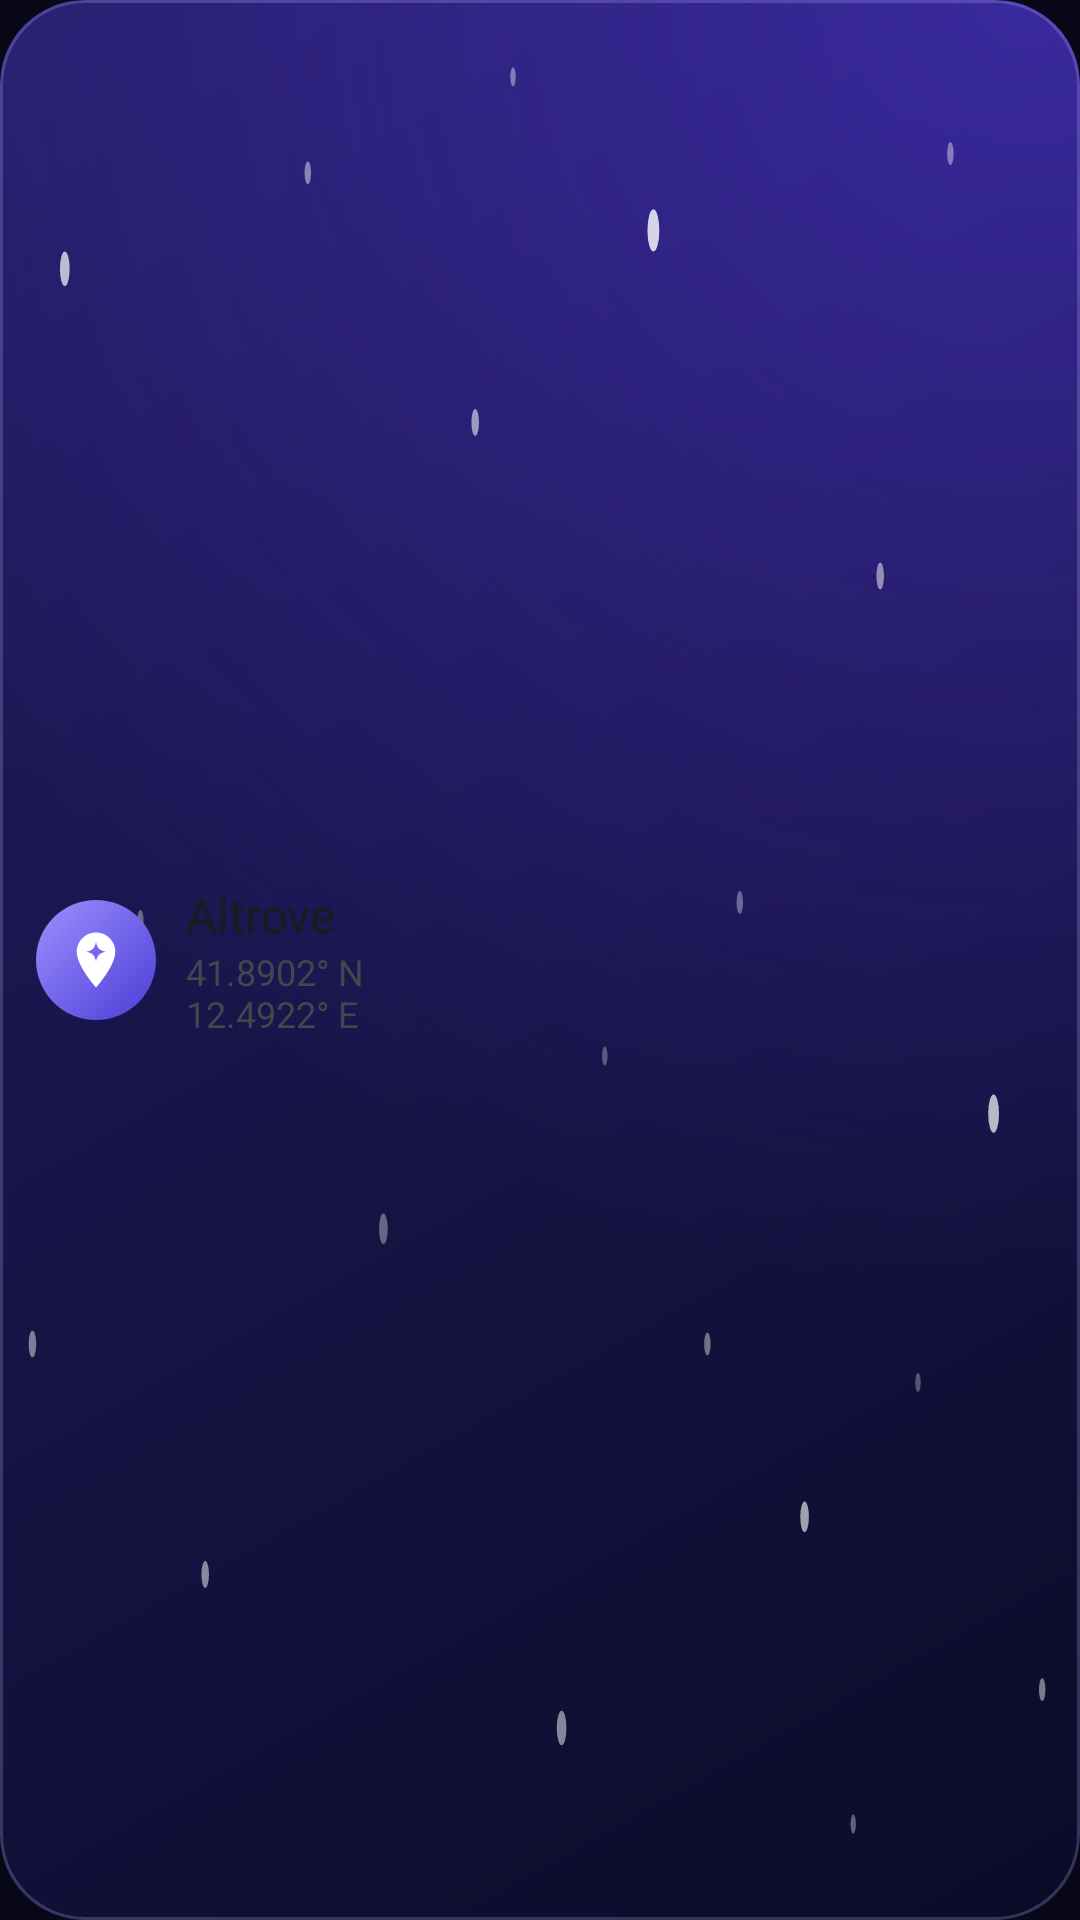

Named icons in this screenshot (1080px x 1920px) and their centers, (x=x, y=y):
pin: (x=96, y=960)
